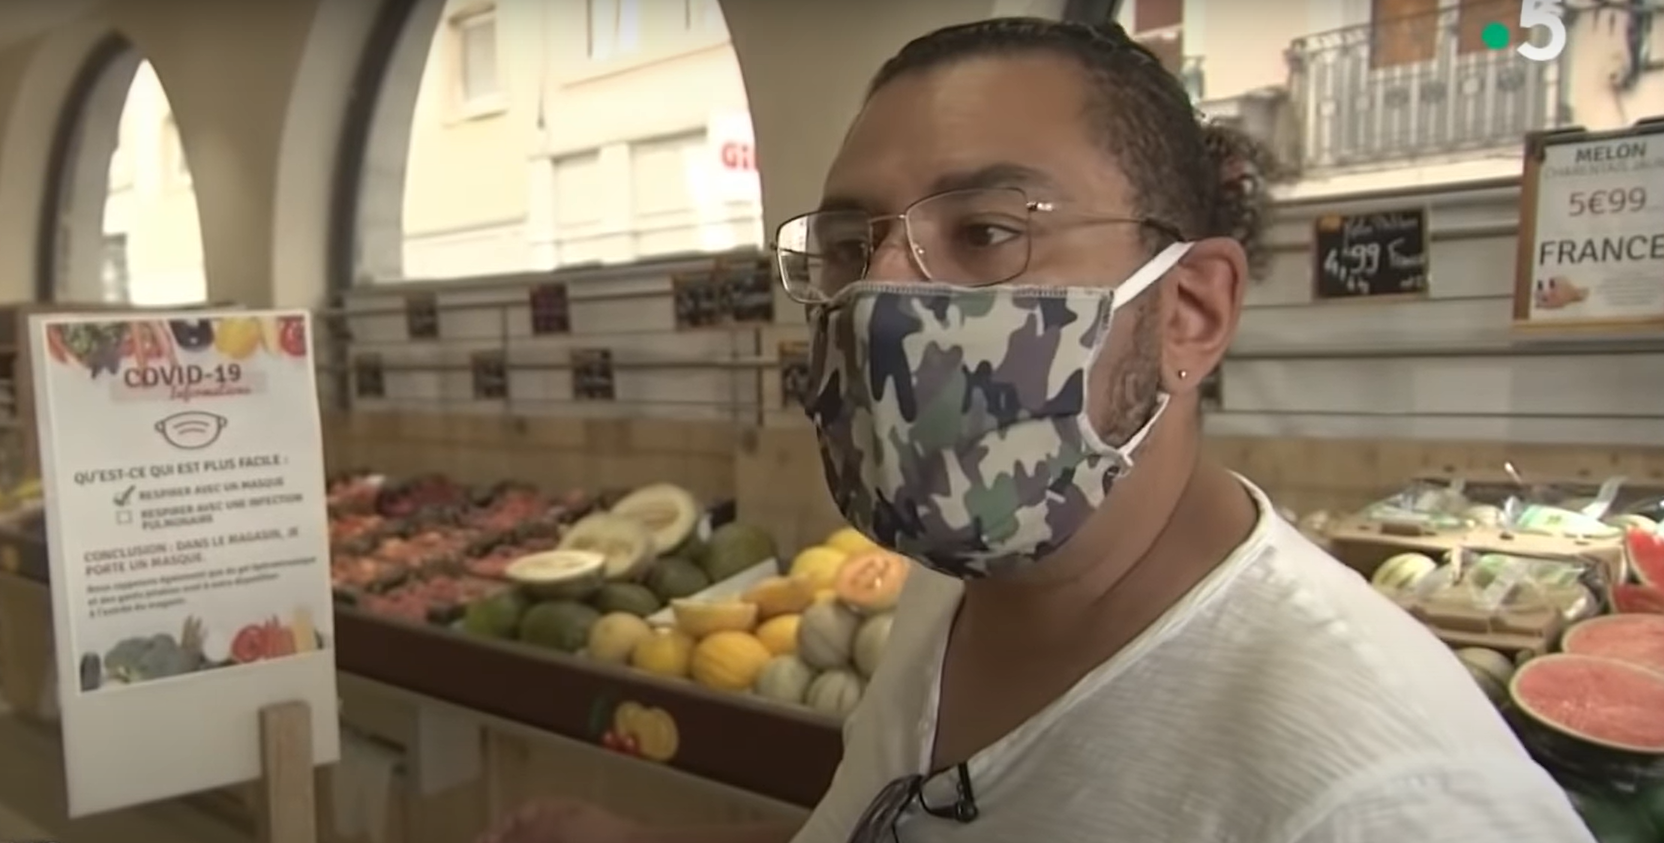with_mask: (827, 182, 1176, 549)
